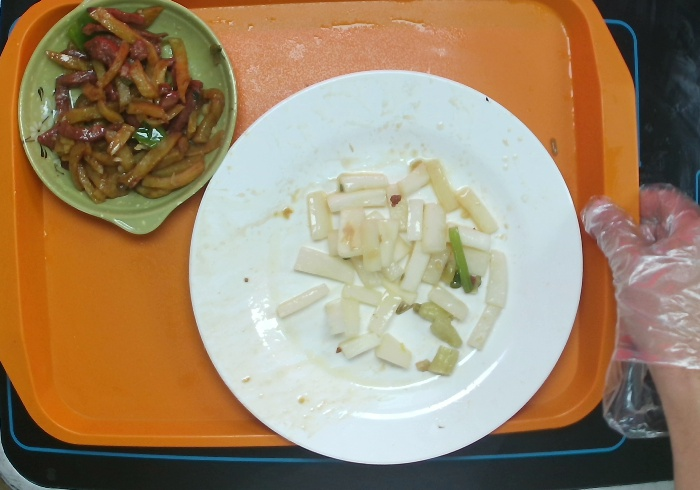NLDX-Da_Yuan_Pan: (184, 65, 590, 471)
NLDX-Lv_Hua_Shuang_Er_Die: (13, 1, 241, 241)
